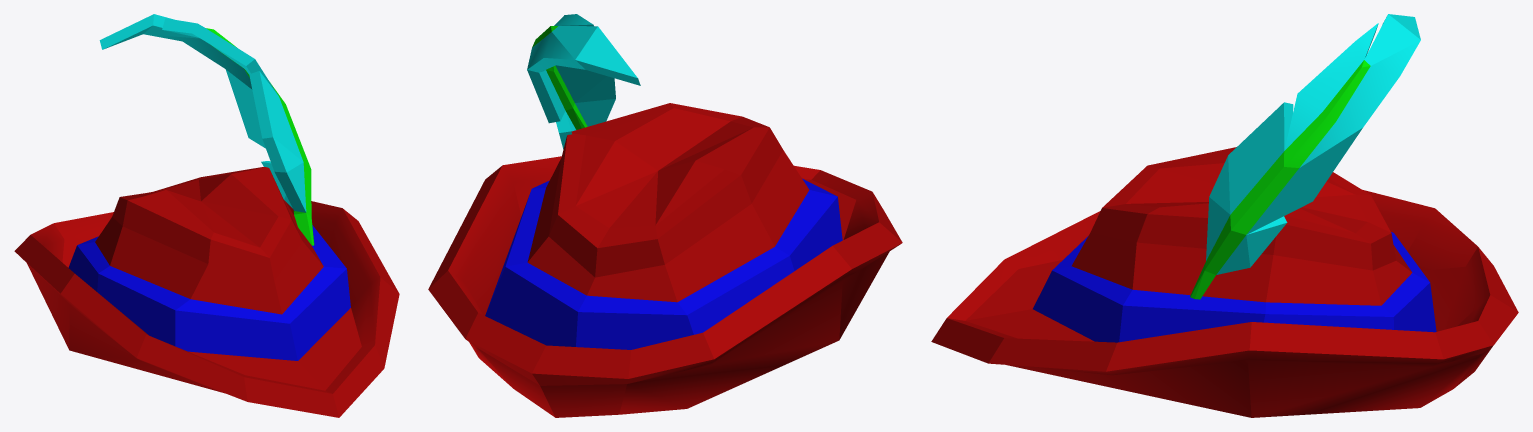
The model's file is Chr_HeadCoverings_BaseHair_Static_06.fbx.
3 renders of one model, left to right at view 1: azimuth 30°, elevation 25°; view 2: azimuth 150°, elevation 25°; view 3: azimuth 270°, elevation 25°, orthographic. The views are drawn at different scales.
Parts seen in each view (by area): view 1: Chr_HeadCoverings_Base_Hair_06; view 2: Chr_HeadCoverings_Base_Hair_06; view 3: Chr_HeadCoverings_Base_Hair_06.
Part boxes in pixels (x1,y1,x2,y2): Chr_HeadCoverings_Base_Hair_06: [14, 14, 399, 417]; Chr_HeadCoverings_Base_Hair_06: [428, 14, 902, 417]; Chr_HeadCoverings_Base_Hair_06: [931, 14, 1518, 417].
Size of the model in its own units: 37.62 by 35.23 by 52.35.
